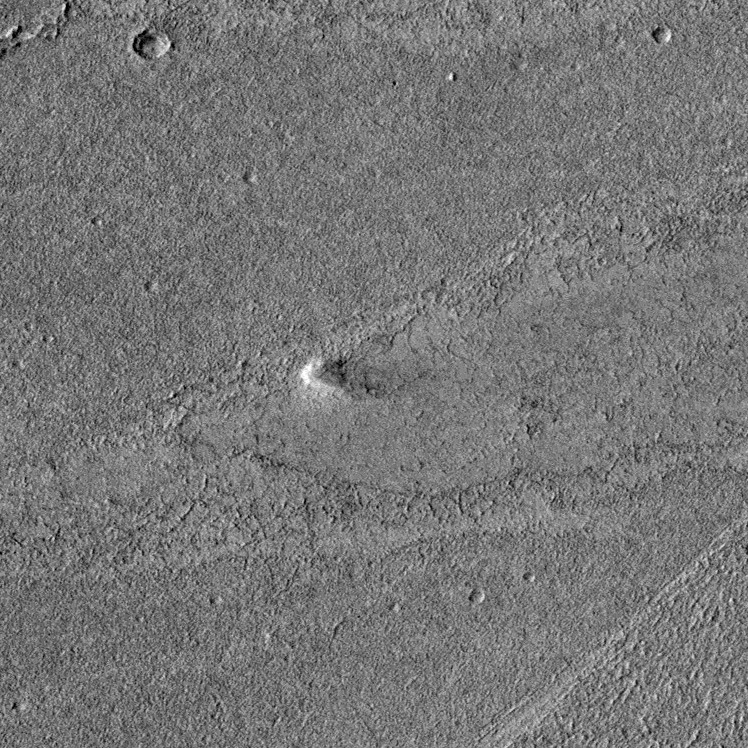dust_devil: (298, 356, 362, 395)
